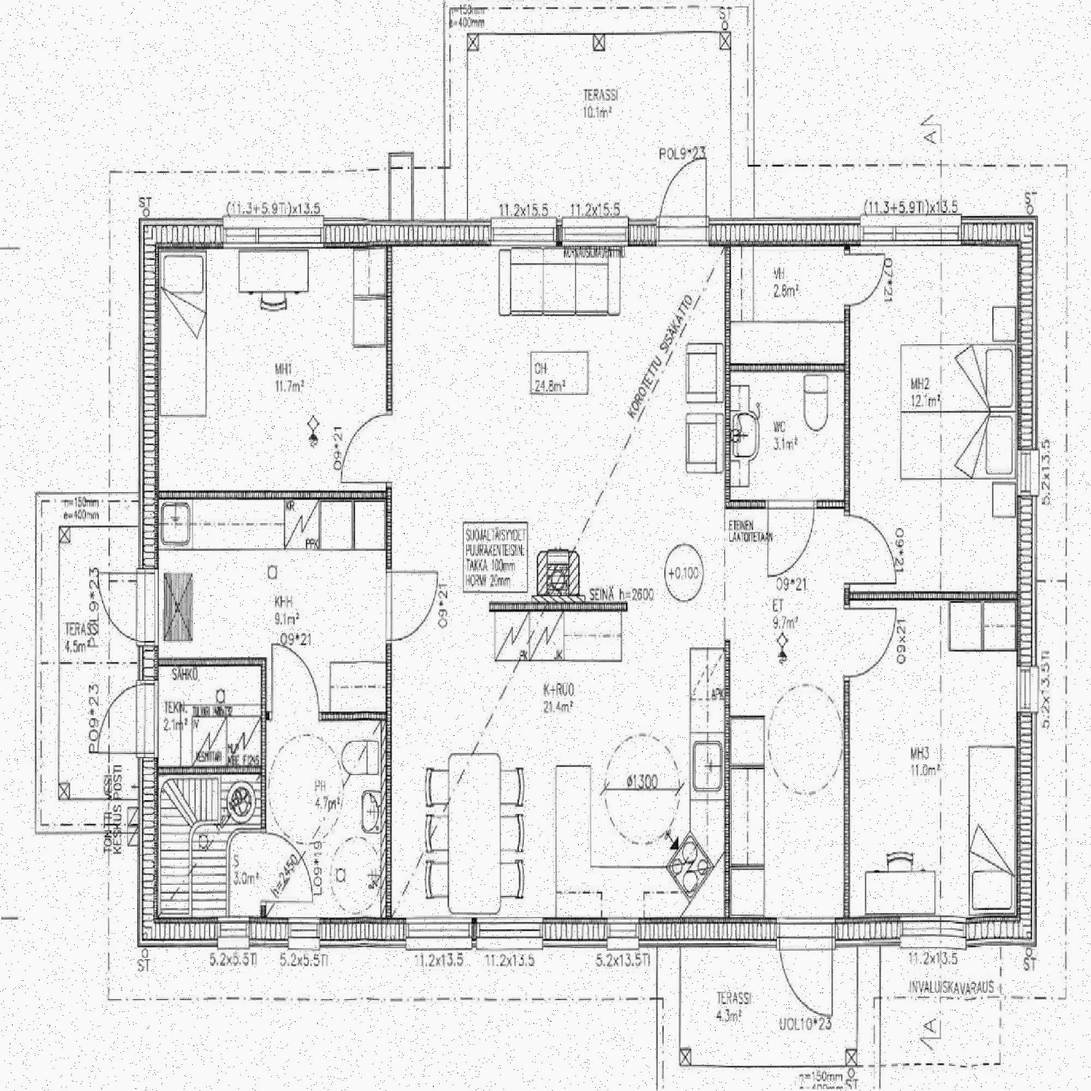wall: (139, 917, 1038, 947), (139, 219, 1038, 247), (1017, 219, 1038, 947), (139, 219, 159, 947), (844, 219, 850, 947), (387, 219, 392, 720), (381, 720, 392, 947), (139, 491, 392, 499), (844, 591, 1038, 600), (725, 640, 730, 946), (725, 219, 730, 509), (261, 658, 266, 946), (489, 602, 627, 611), (724, 500, 849, 509), (261, 712, 392, 720), (138, 658, 266, 666), (138, 766, 266, 774), (724, 363, 849, 371)
